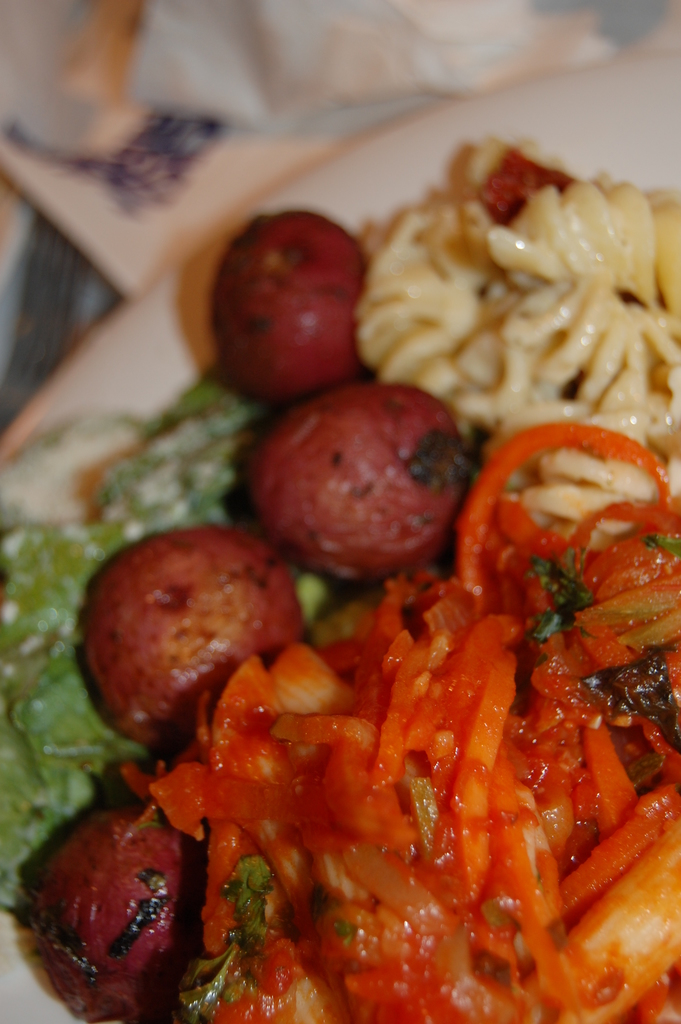Apple: (205, 211, 363, 395)
